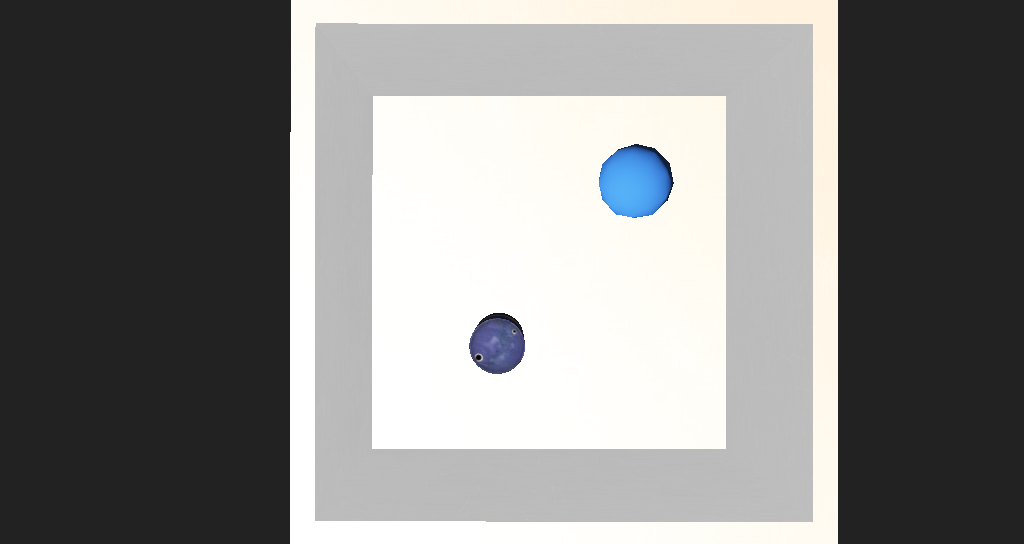cone: (431, 291, 485, 329)
cylinder: (320, 499, 421, 542)
sphere: (549, 193, 610, 236)
